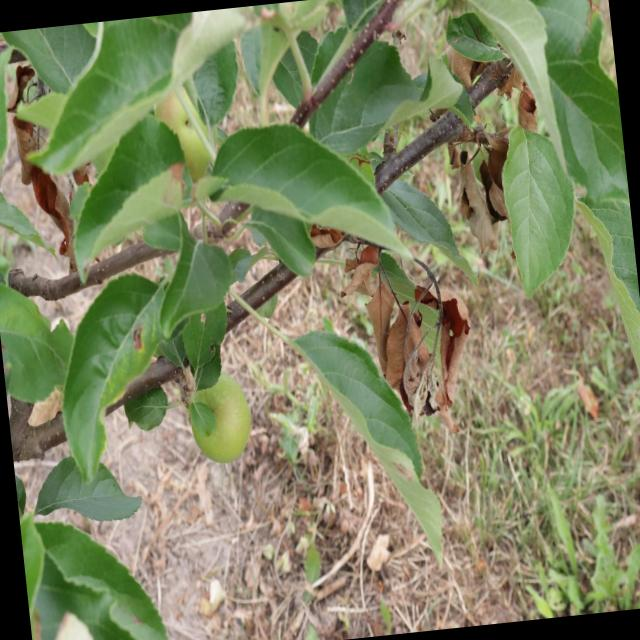-FireBlight-: (344, 233, 478, 425), (8, 98, 81, 264), (436, 125, 518, 252), (498, 56, 540, 136)
